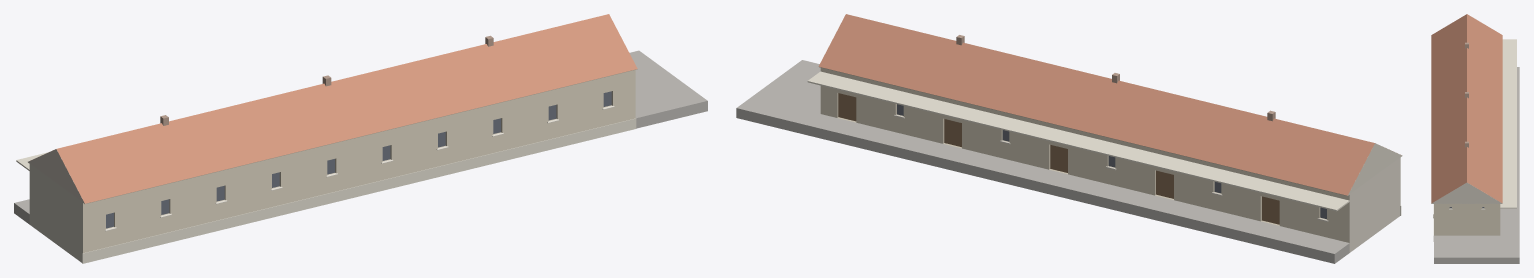
The picture shows the model from 3 angles, left to right: view 1: azimuth 30°, elevation 25°; view 2: azimuth 150°, elevation 25°; view 3: azimuth 270°, elevation 25°; orthographic projection. The views are drawn at different scales.
Parts seen in each view (by area): view 1: CP_729_Roof, CP_729_Masonry, CP_729_Cornice_plinth_0, CP_729_Ramp_S, CP_729_Gable_L_gable, CP_729_Roof_EaveClosure_0; view 2: CP_729_Roof, CP_729_Masonry, CP_729_Ramp_E, CP_729_Canopy_E, CP_729_Ramp_S, CP_729_Gable_L_gable, CP_729_Roof_EaveClosure_1; view 3: CP_729_Roof, CP_729_Canopy_E, CP_729_Ramp_S, CP_729_Masonry, CP_729_Ramp_E, CP_729_Gable_R_gable.
Part boxes in pixels (x1,y1,x2,y2): CP_729_Roof: [30, 14, 637, 203]; CP_729_Masonry: [29, 70, 635, 262]; CP_729_Cornice_plinth_0: [82, 118, 636, 263]; CP_729_Ramp_S: [629, 50, 707, 128]; CP_729_Gable_L_gable: [28, 149, 86, 203]; CP_729_Roof_EaveClosure_0: [86, 69, 637, 203]; CP_729_Roof: [818, 14, 1400, 195]; CP_729_Masonry: [820, 67, 1400, 252]; CP_729_Ramp_E: [805, 114, 1349, 263]; CP_729_Canopy_E: [807, 71, 1349, 211]; CP_729_Ramp_S: [736, 60, 820, 134]; CP_729_Gable_L_gable: [1346, 143, 1402, 195]; CP_729_Roof_EaveClosure_1: [819, 67, 1348, 195]; CP_729_Roof: [1431, 14, 1502, 203]; CP_729_Canopy_E: [1500, 39, 1516, 208]; CP_729_Ramp_S: [1434, 235, 1519, 263]; CP_729_Masonry: [1434, 203, 1500, 235]; CP_729_Ramp_E: [1500, 67, 1519, 235]; CP_729_Gable_R_gable: [1431, 182, 1502, 203].
Size of the model in its own units: 69.31 by 10.7 by 13.6.
